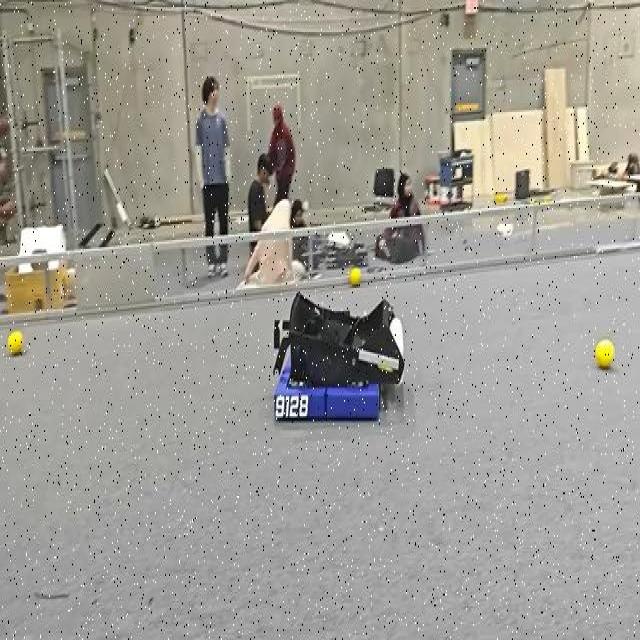Fuel: (595, 339, 614, 369), (595, 340, 614, 368), (7, 330, 23, 356), (7, 331, 22, 354), (349, 266, 362, 287), (349, 266, 360, 284), (346, 264, 355, 282)
